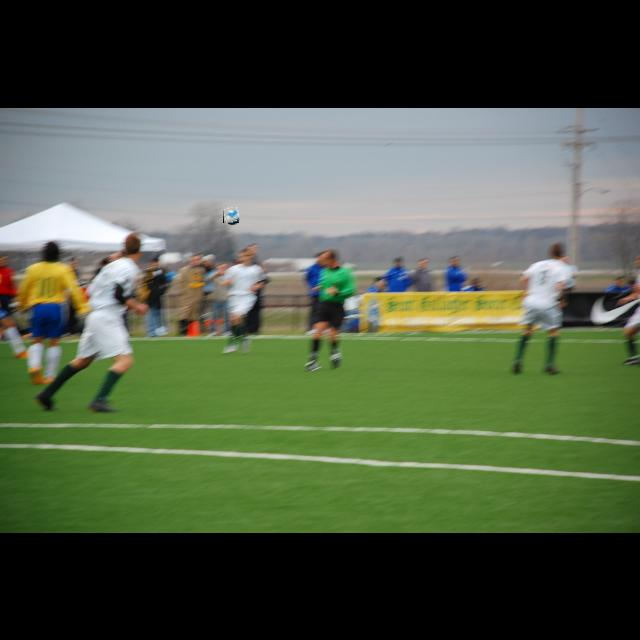Football: (223, 207, 239, 223)
